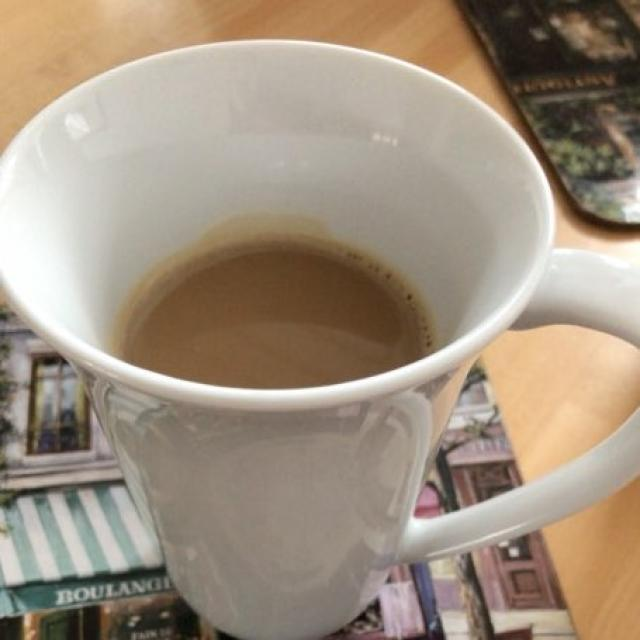white-coffee-with-caffeine: (119, 234, 431, 390)
